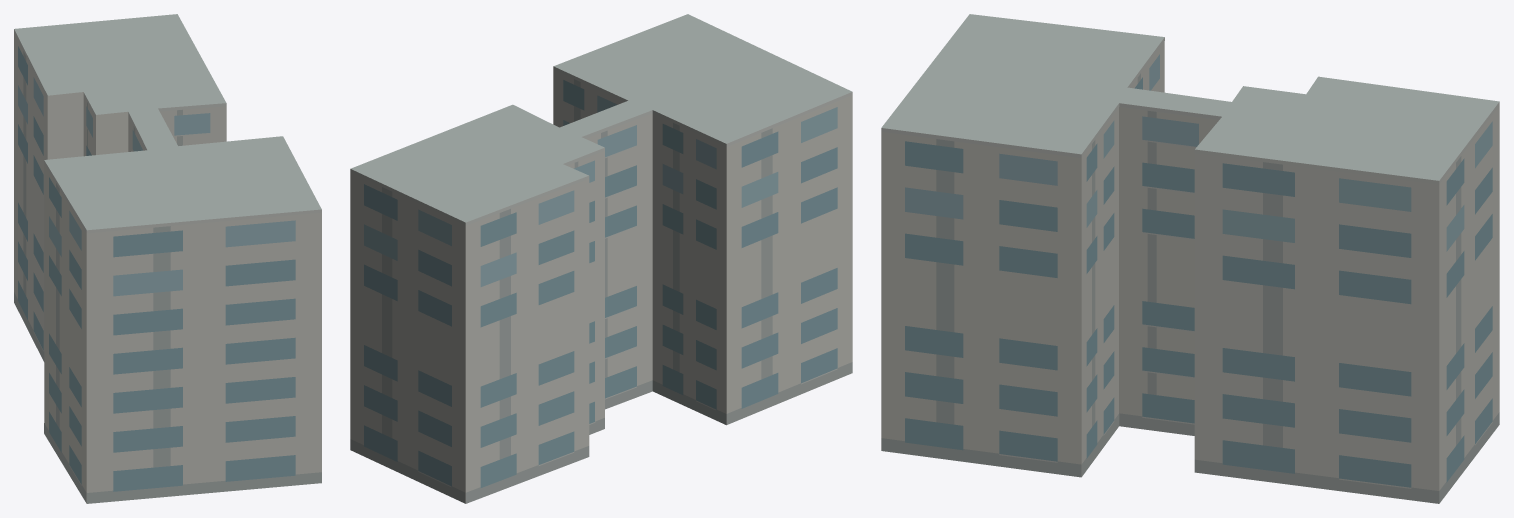
Rendered from survey-upis-32800115.glb.
The picture shows the model from 3 angles, left to right: view 1: azimuth 30°, elevation 25°; view 2: azimuth 150°, elevation 25°; view 3: azimuth 270°, elevation 25°; orthographic projection. The views are drawn at different scales.
Visible parts, largest first — view 1: survey-upis-32800115.tmp; view 2: survey-upis-32800115.tmp; view 3: survey-upis-32800115.tmp.
Part boxes in pixels (box(x1,y1,x2,y2)): survey-upis-32800115.tmp: box(14, 14, 321, 503); survey-upis-32800115.tmp: box(350, 14, 852, 503); survey-upis-32800115.tmp: box(881, 14, 1499, 503).
Bounding box in the file's own units: 22.72 × 20.5 × 35.58.
